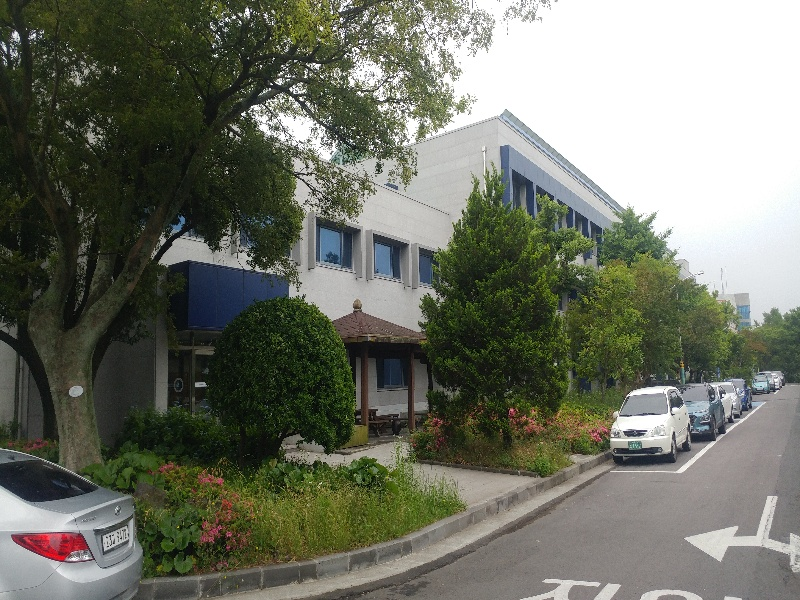College of Social Science: (66, 89, 695, 386)
